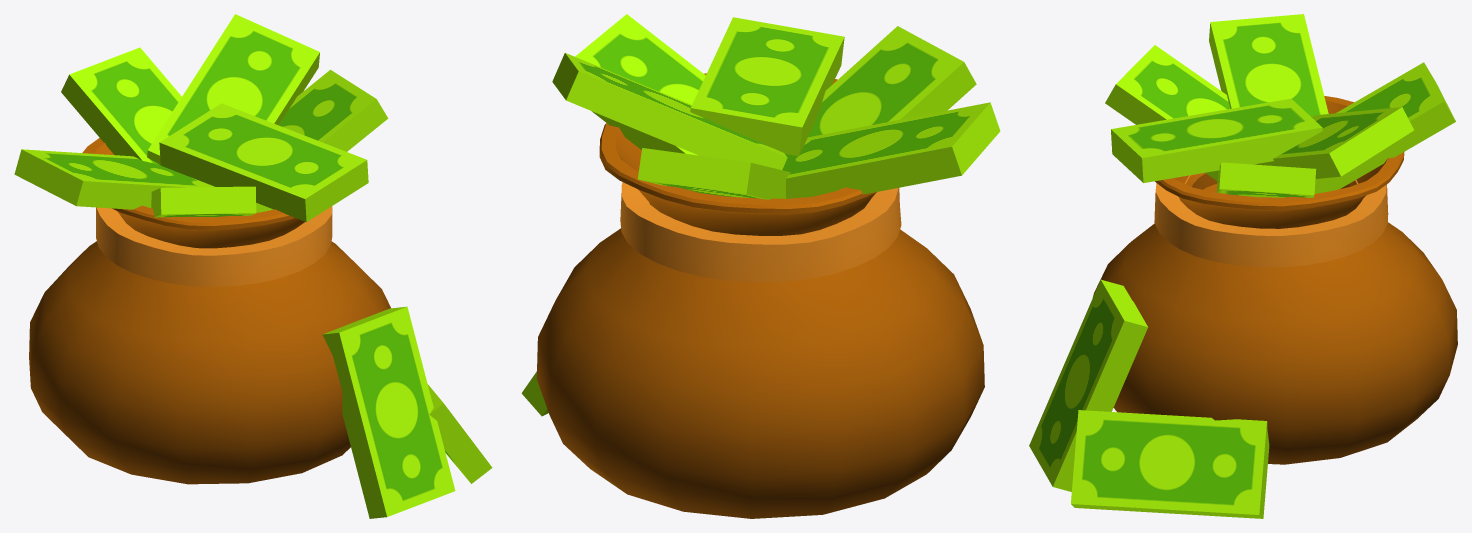
Rendered from Collectable_Money_Sack_01.fbx.
3 renders of one model, left to right at view 1: azimuth 30°, elevation 25°; view 2: azimuth 150°, elevation 25°; view 3: azimuth 270°, elevation 25°, orthographic. The views are drawn at different scales.
Visible parts, largest first — view 1: Collectable_Money_Sack_01; view 2: Collectable_Money_Sack_01; view 3: Collectable_Money_Sack_01.
Part boxes in pixels (x1,y1,x2,y2): Collectable_Money_Sack_01: (14, 14, 492, 518); Collectable_Money_Sack_01: (521, 14, 1000, 518); Collectable_Money_Sack_01: (1029, 14, 1457, 518).
Size of the model in its own units: 94.43 by 85.23 by 90.17.
1 material, 1 textured.
